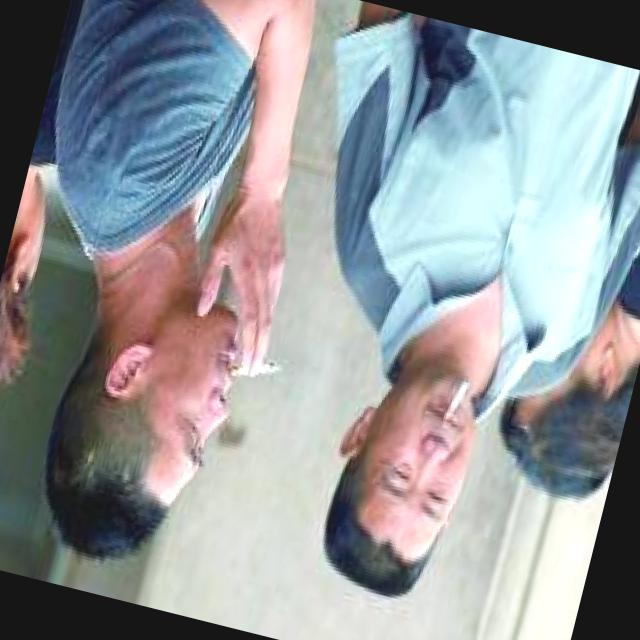smoke: (226, 344, 286, 392), (442, 376, 472, 424)
